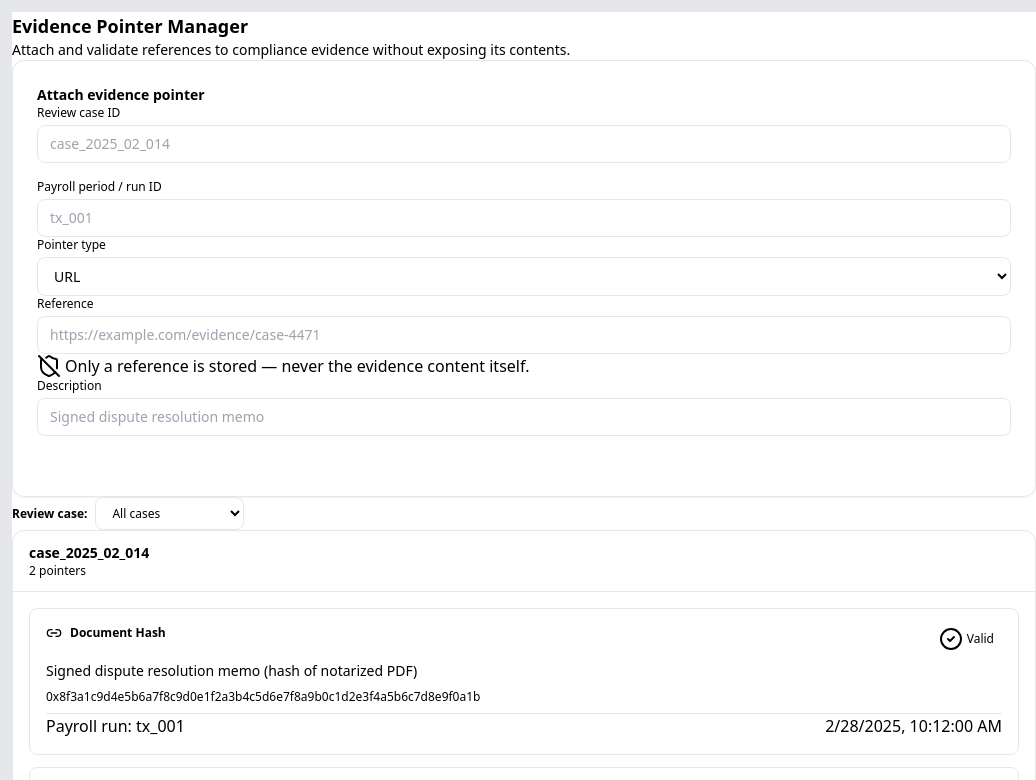
Test: EvidencePointerManager › adds a valid pointer and shows it under its review case
Type "case_2025_04_001" into the field labelled "Review case ID" at (524, 144), box [37, 125, 1011, 163]
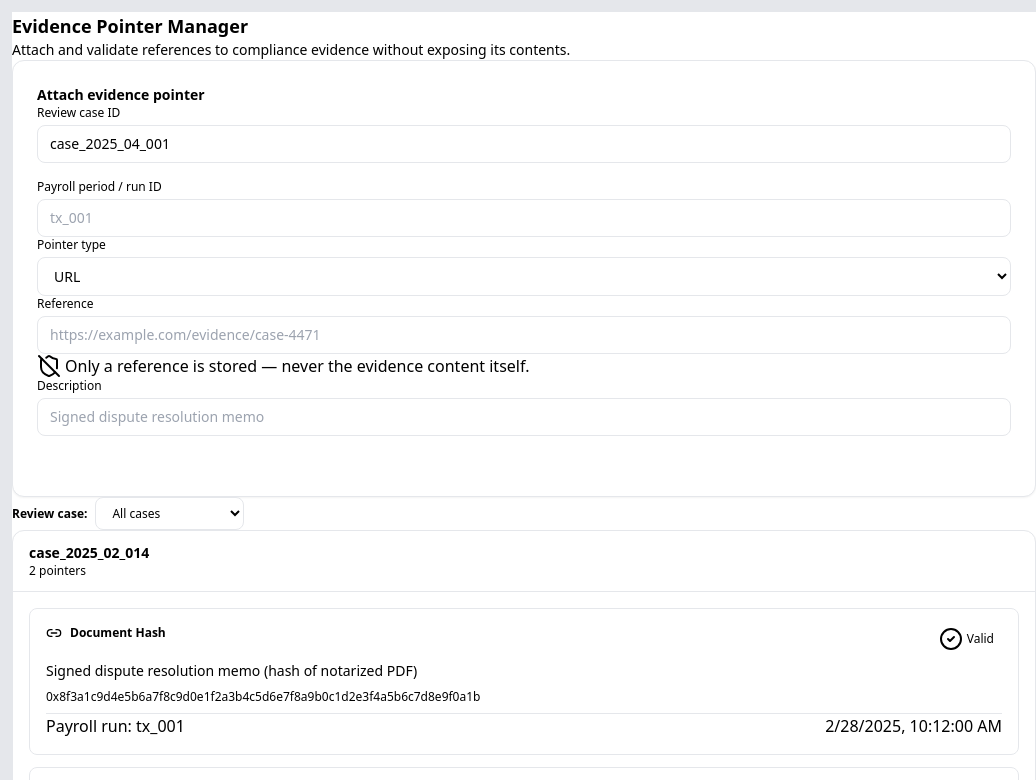
Type "tx_010" into the field labelled "Payroll period / run ID" at (524, 218), box [37, 199, 1011, 237]
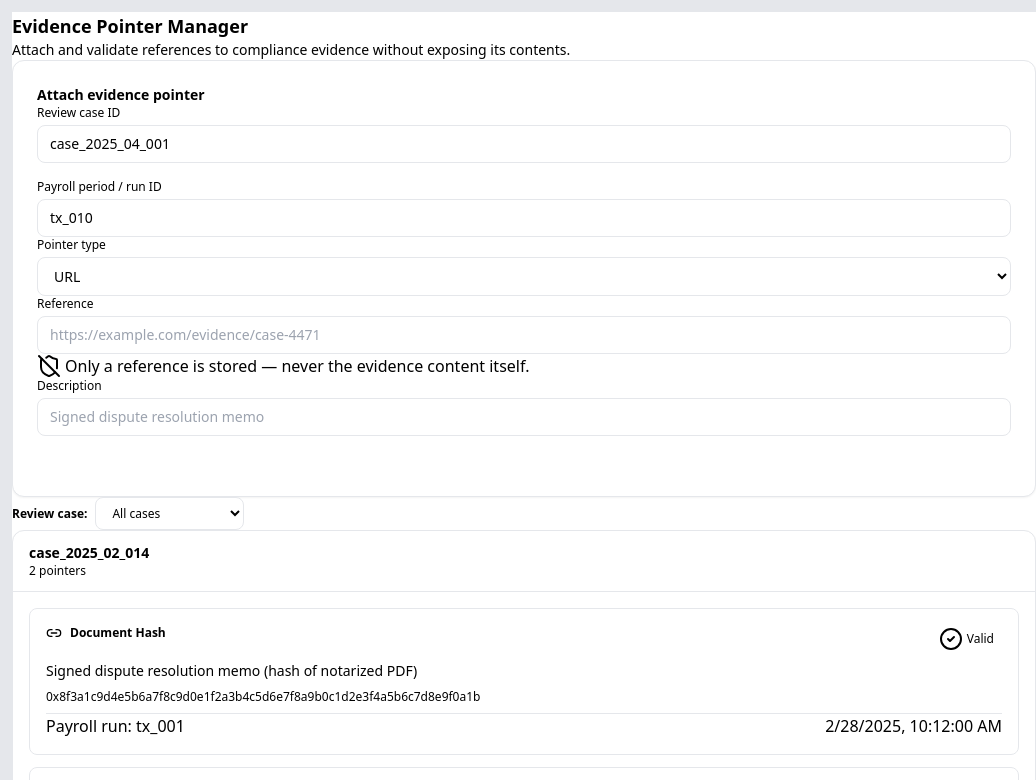
Type "https://example.com/evidence" into the field labelled "Reference" at (524, 335), box [37, 316, 1011, 354]
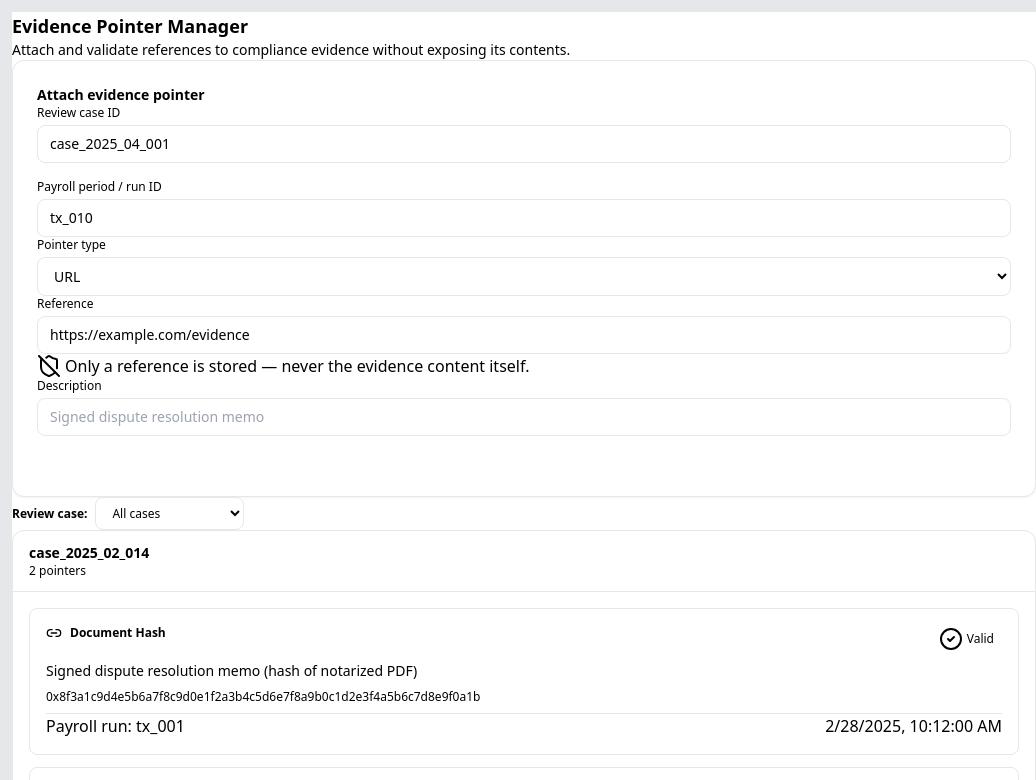
Type "A valid piece of evidence" into the field labelled "Description" at (524, 417), box [37, 398, 1011, 436]
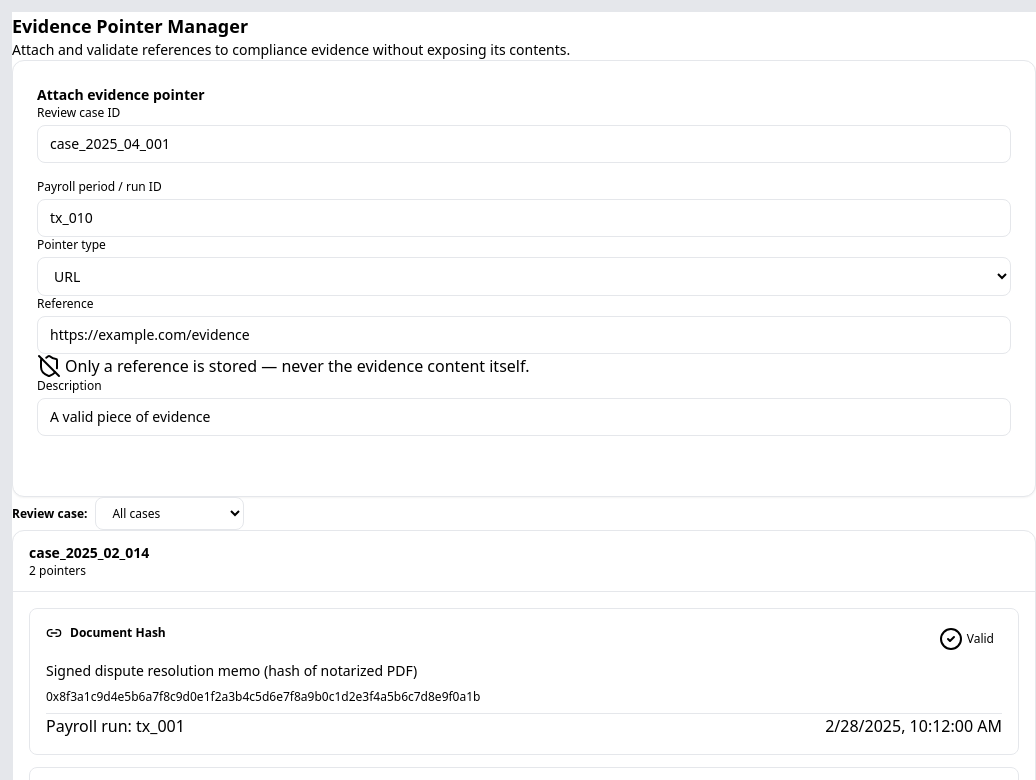
Click the button "Add pointer" at (103, 454), box [37, 436, 169, 472]
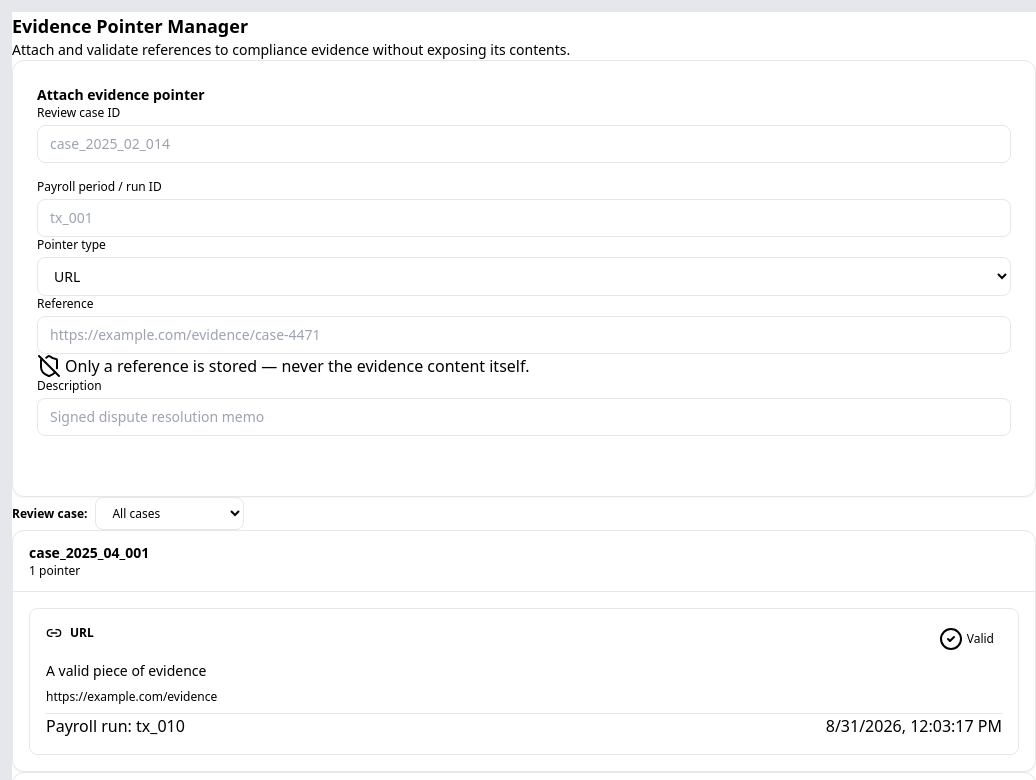
Check: the heading "case_2025_04_001" is shown, box [29, 543, 149, 562]
Check: the text "A valid piece of evidence" is shown, box [46, 661, 206, 680]
